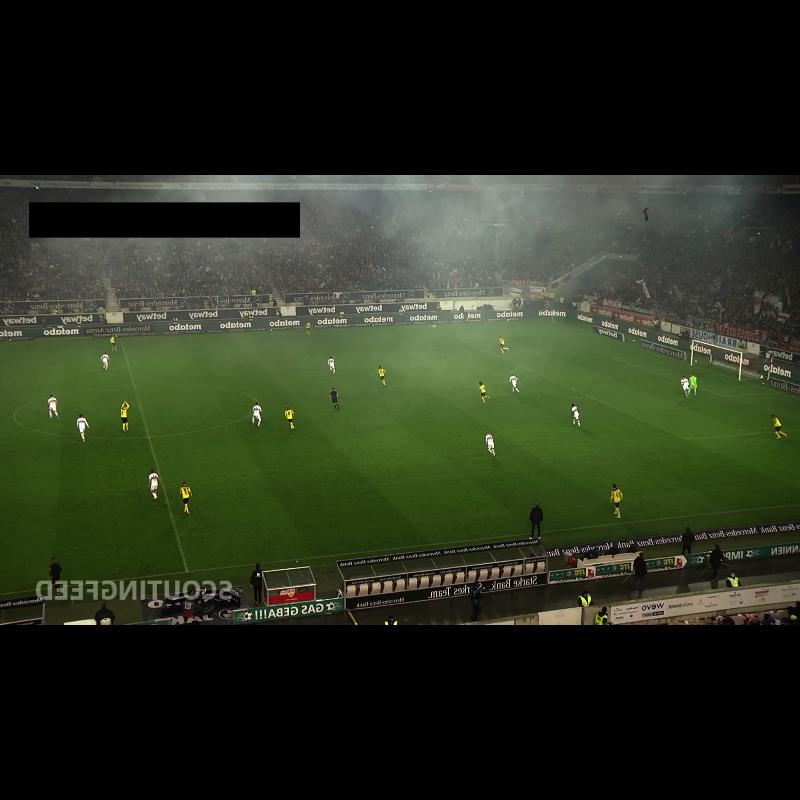cross_recipient_zone: (472, 338, 800, 439)
crossing_player_zone: (569, 429, 800, 517), (371, 322, 604, 348)
pitch: (0, 322, 800, 594)
